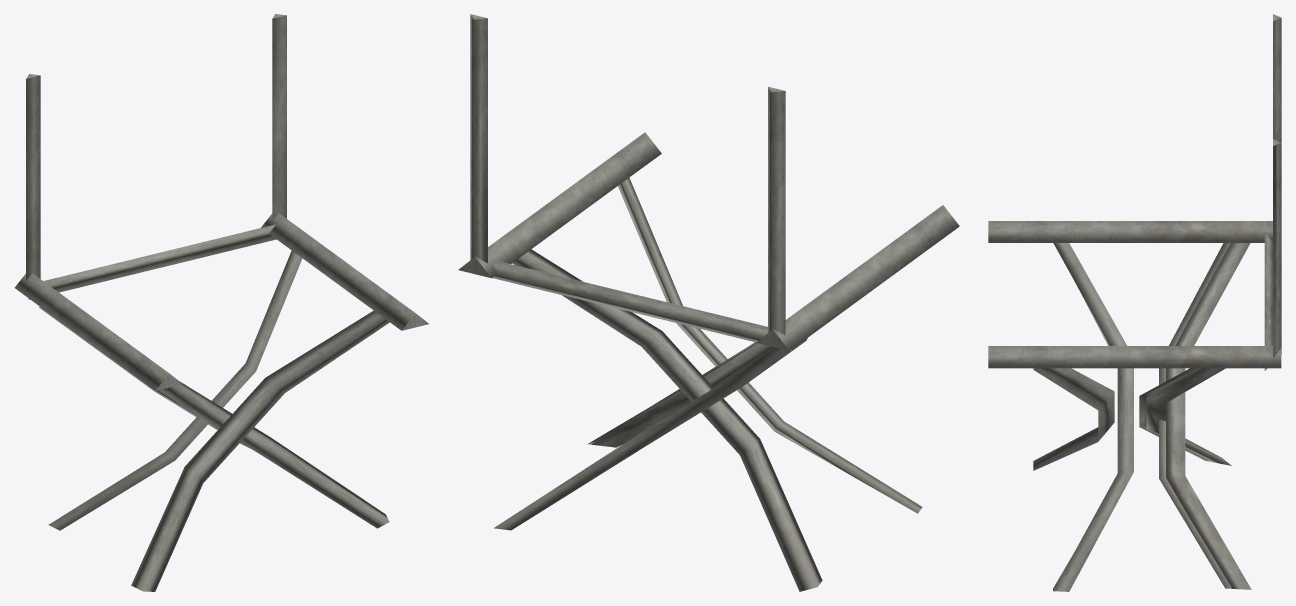
Rendered from eqp_camping_chair_s1_l2.fbx.
The picture shows the model from 3 angles, left to right: view 1: azimuth 30°, elevation 25°; view 2: azimuth 150°, elevation 25°; view 3: azimuth 270°, elevation 25°; orthographic projection. The views are drawn at different scales.
Parts seen in each view (by area): view 1: mesh_node; view 2: mesh_node; view 3: mesh_node.
Boxes of the visible parts, box(x1,y1,x2,y2) form: mesh_node: box(14, 14, 428, 591); mesh_node: box(458, 14, 959, 591); mesh_node: box(988, 14, 1281, 591).
Bounding box in the file's own units: 0.5621 × 0.8489 × 0.5003.
Materials: 1 (1 with a texture image).
